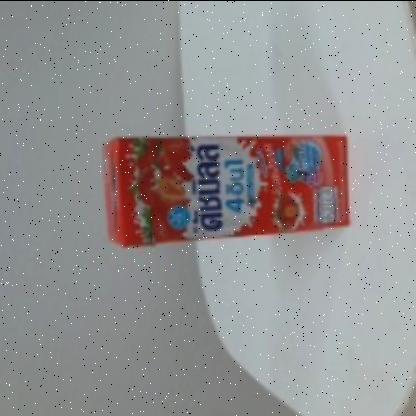Others: (105, 135, 349, 245)
